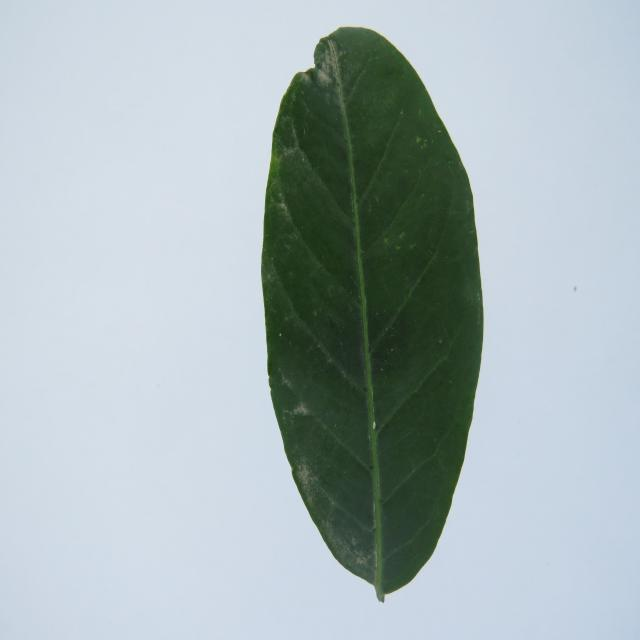DeficienciaNutricional-Boro: (261, 28, 484, 602)
